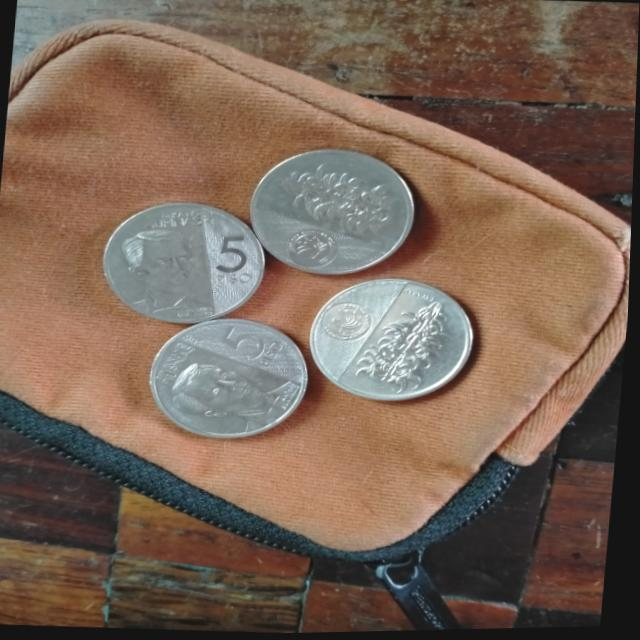5_New_Back: (271, 155, 412, 247), (349, 294, 460, 405)
5_New_Front: (205, 224, 275, 298), (218, 319, 295, 374)
